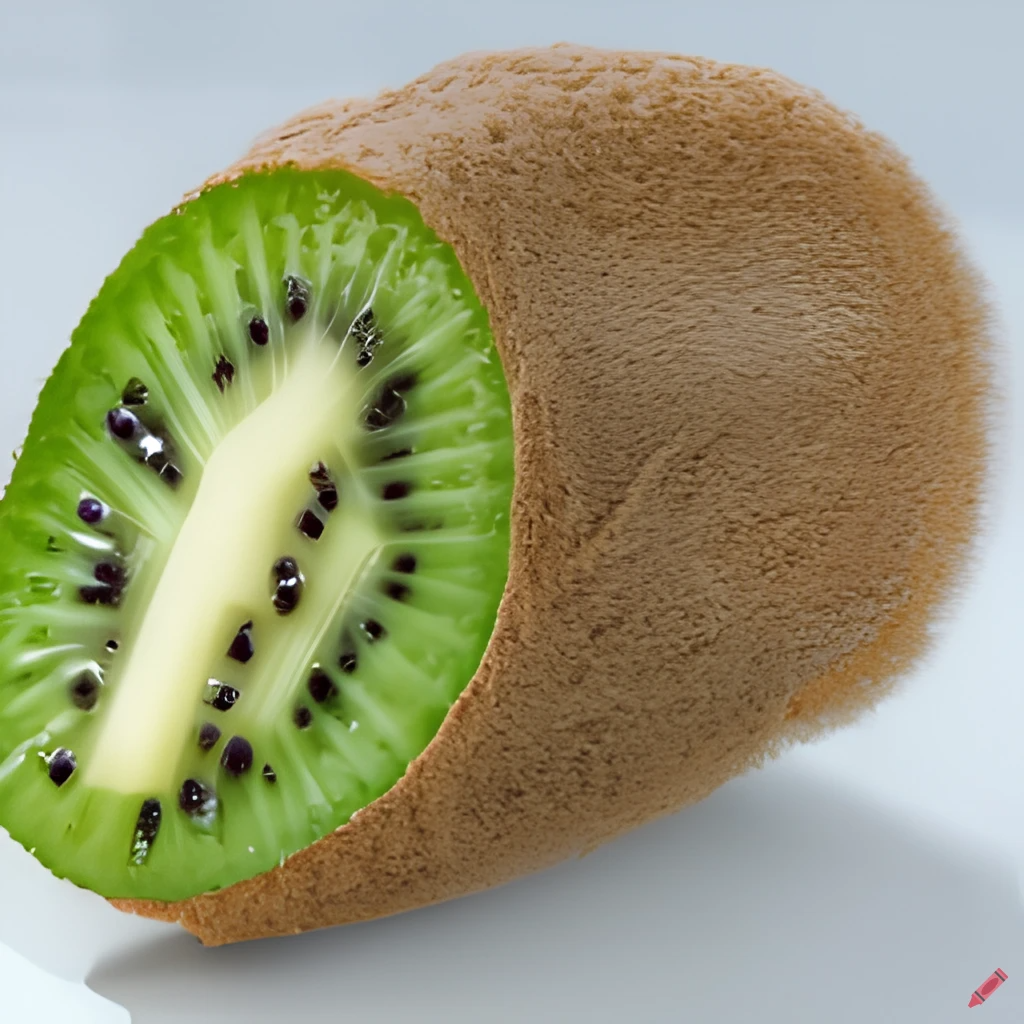Kiwi: (14, 34, 972, 956)
